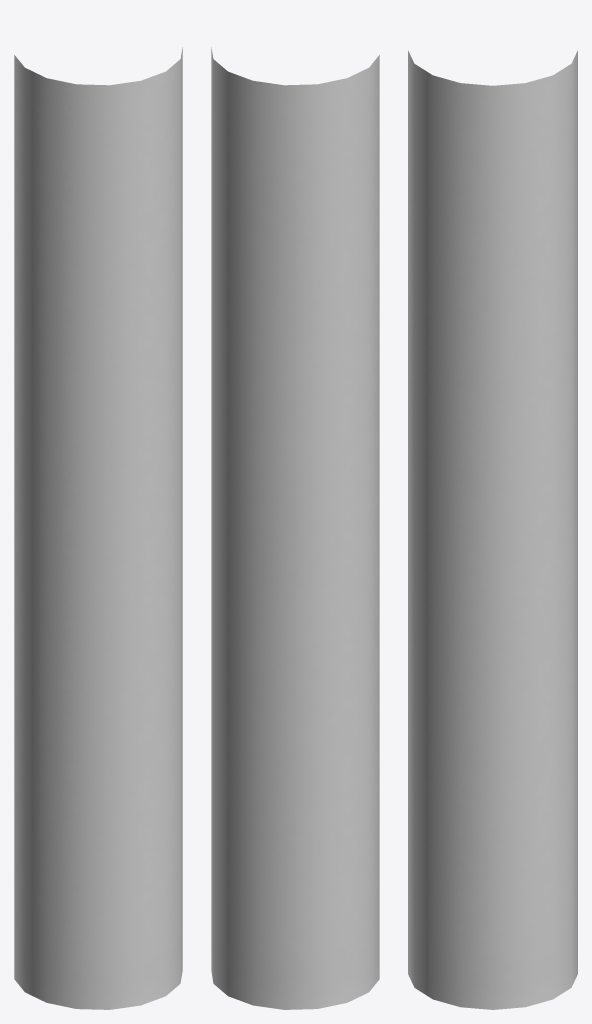
The model's file is Pillar0_5x3Rnd.gltf.
3 renders of one model, left to right at view 1: azimuth 30°, elevation 25°; view 2: azimuth 150°, elevation 25°; view 3: azimuth 270°, elevation 25°, orthographic.
Parts seen in each view (by area): view 1: Pillar0_5x3RndShape; view 2: Pillar0_5x3RndShape; view 3: Pillar0_5x3RndShape.
Part boxes in pixels (x1=…): Pillar0_5x3RndShape: x1=14, y1=47, x2=182, y2=1009; Pillar0_5x3RndShape: x1=211, y1=47, x2=379, y2=1009; Pillar0_5x3RndShape: x1=408, y1=50, x2=577, y2=1009.
Size of the model in its own units: 0.5 by 3 by 0.5.
Materials: 1 (1 with a texture image).
